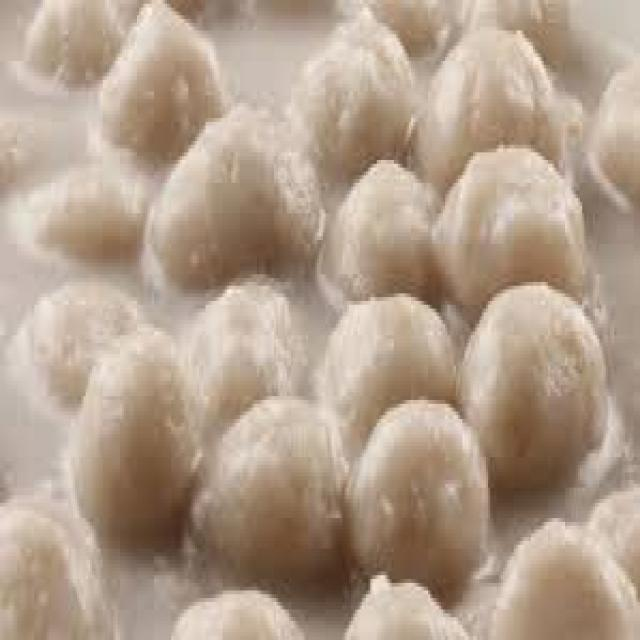paal kolukattai: (2, 0, 618, 640)
